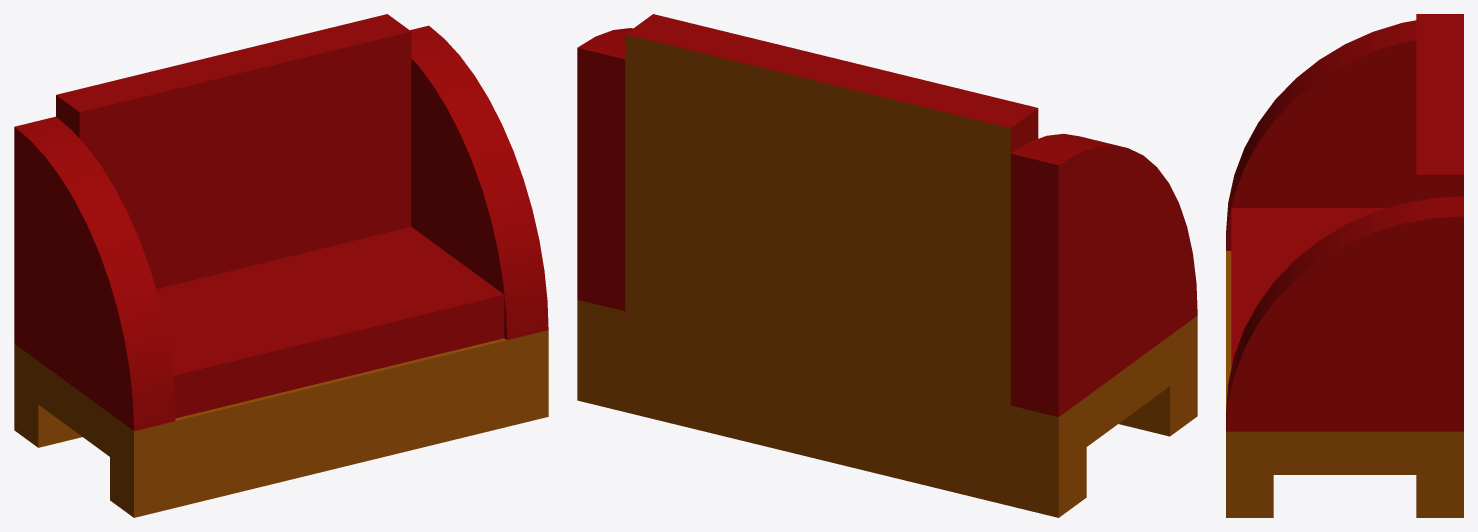
The model's file is Stuhl.dae.
The picture shows the model from 3 angles, left to right: view 1: azimuth 30°, elevation 25°; view 2: azimuth 150°, elevation 25°; view 3: azimuth 270°, elevation 25°; orthographic projection. The views are drawn at different scales.
Parts seen in each view (by area): view 1: SketchUp (×2); view 2: SketchUp (×2); view 3: SketchUp (×2).
Part boxes in pixels (x1=…): SketchUp (×2): x1=14, y1=14, x2=548, y2=517; SketchUp (×2): x1=577, y1=14, x2=1197, y2=517; SketchUp (×2): x1=1226, y1=14, x2=1463, y2=517.
Size of the model in its own units: 78.74 by 39.37 by 59.06.
